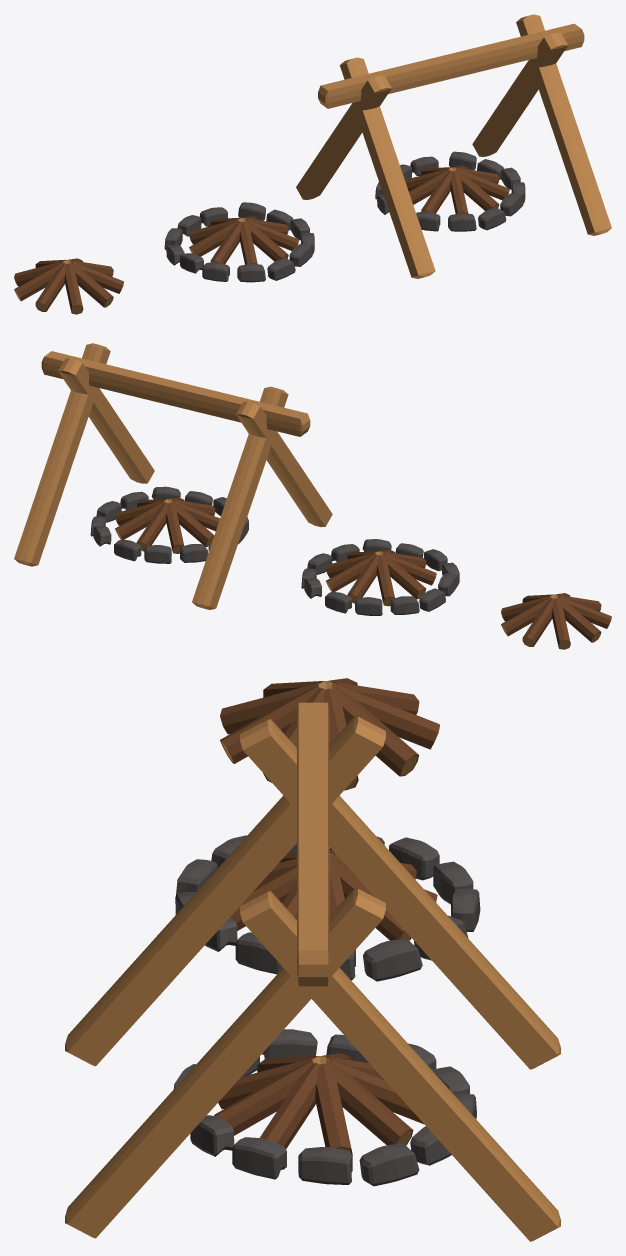
Rendered from Campfire.fbx.
3 renders of one model, top to bottom at view 1: azimuth 30°, elevation 25°; view 2: azimuth 150°, elevation 25°; view 3: azimuth 270°, elevation 25°, orthographic. The views are drawn at different scales.
Parts seen in each view (by area): view 1: Campfire3, Cube.013, Campfire2; view 2: Campfire3, Cube.013, Campfire2; view 3: Campfire3, Cube.013, Campfire2.
Part boxes in pixels (x1=…): Campfire3: x1=296, y1=14, x2=611, y2=278; Cube.013: x1=164, y1=202, x2=314, y2=282; Campfire2: x1=14, y1=258, x2=123, y2=314; Campfire3: x1=14, y1=343, x2=332, y2=609; Cube.013: x1=301, y1=539, x2=459, y2=615; Campfire2: x1=501, y1=593, x2=611, y2=649; Campfire3: x1=65, y1=702, x2=560, y2=1241; Cube.013: x1=175, y1=835, x2=480, y2=981; Campfire2: x1=220, y1=678, x2=439, y2=790.
Size of the model in its own units: 27.92 by 8.3 by 10.76.
